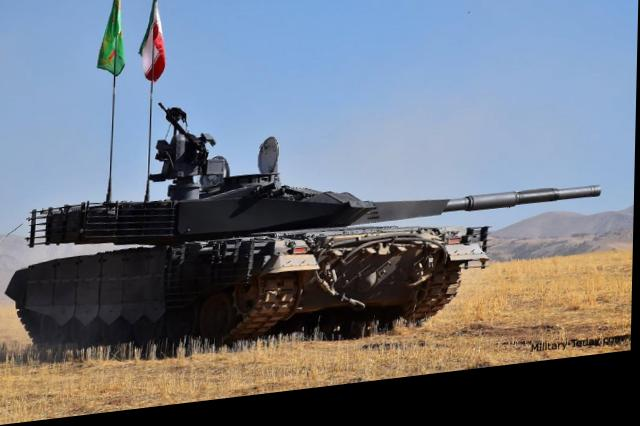tank: (15, 111, 487, 391)
